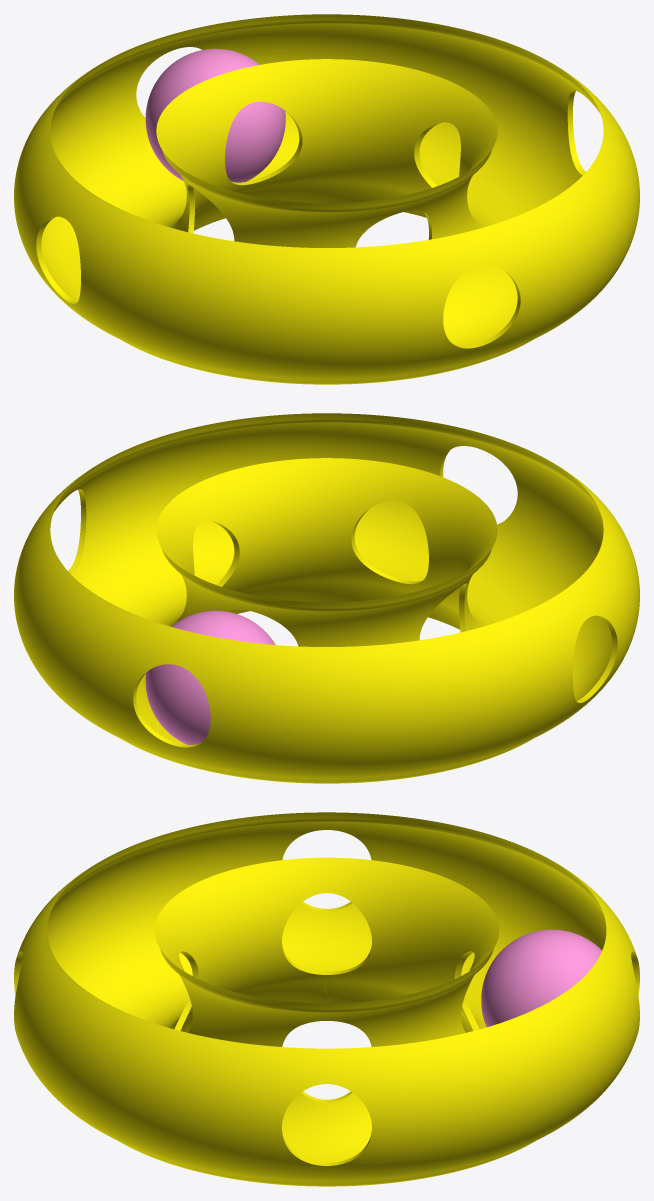
File: cat-toy-donut.glb
The picture shows the model from 3 angles, top to bottom: view 1: azimuth 30°, elevation 25°; view 2: azimuth 150°, elevation 25°; view 3: azimuth 270°, elevation 25°; orthographic projection.
Parts seen in each view (by area): view 1: Donut, Ball; view 2: Donut, Ball; view 3: Donut, Ball.
Boxes of the visible parts, x1=… form: Donut: x1=14, y1=14, x2=639, y2=384; Ball: x1=145, y1=48, x2=285, y2=182; Donut: x1=14, y1=413, x2=639, y2=783; Ball: x1=145, y1=610, x2=275, y2=744; Donut: x1=14, y1=812, x2=639, y2=1186; Ball: x1=481, y1=929, x2=601, y2=1027.
Size of the model in its own units: 208 by 54.17 by 208.
